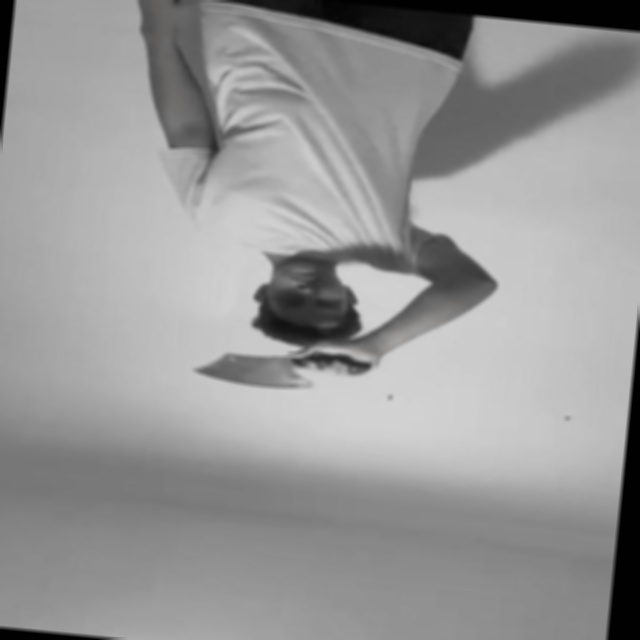Sharp-Object: (191, 350, 314, 393)
